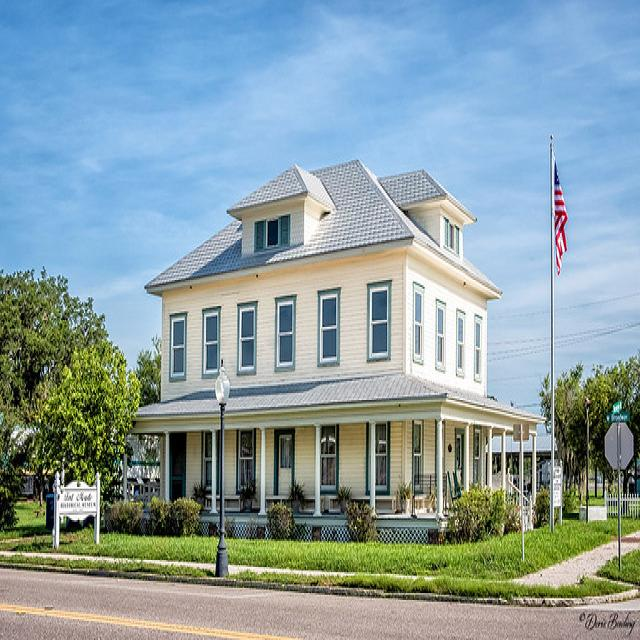building: (138, 145, 540, 563)
